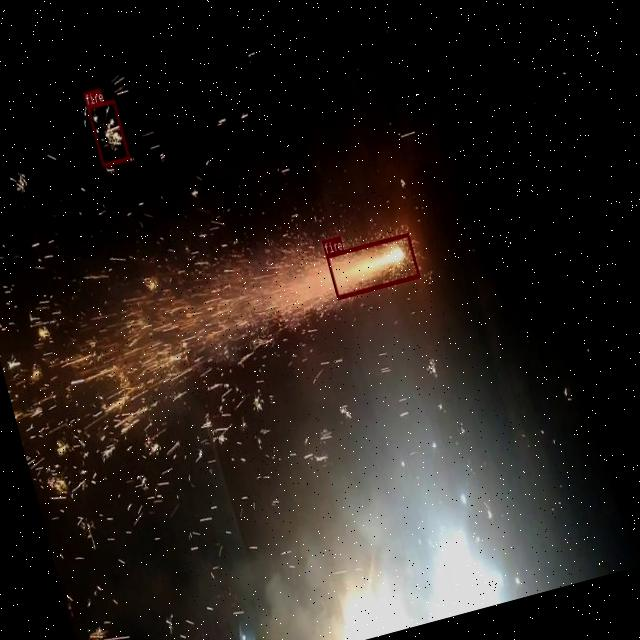fire: (325, 232, 419, 298), (86, 98, 130, 166)
